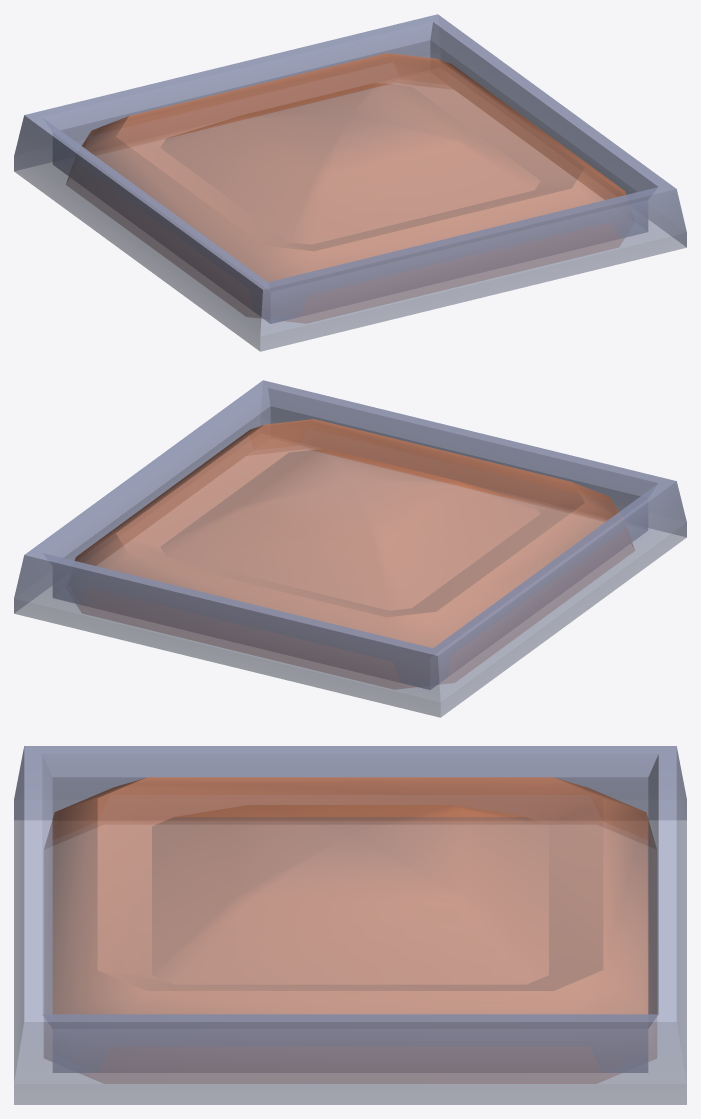
Rendered from Soil01Trasnparent.glb.
The picture shows the model from 3 angles, top to bottom: view 1: azimuth 30°, elevation 25°; view 2: azimuth 150°, elevation 25°; view 3: azimuth 270°, elevation 25°; orthographic projection. The views are drawn at different scales.
Visible parts, largest first — view 1: SoilTrasnparent; view 2: SoilTrasnparent; view 3: SoilTrasnparent.
Part boxes in pixels (bbox=[...]): SoilTrasnparent: bbox=[14, 14, 686, 351]; SoilTrasnparent: bbox=[14, 380, 686, 717]; SoilTrasnparent: bbox=[14, 746, 686, 1104].
Size of what is drawn, in the model's own units: 2 by 0.4241 by 2.
1 material, 1 textured.
